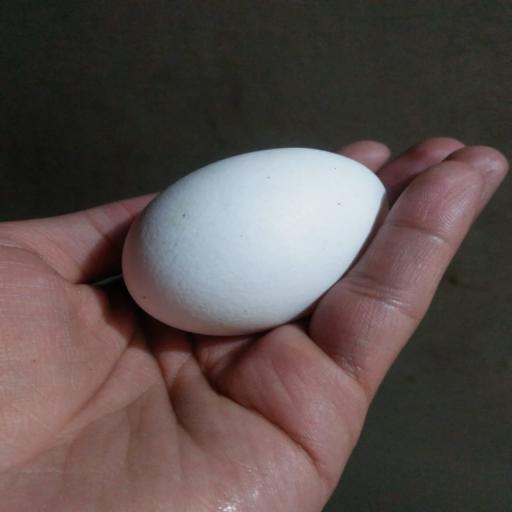telur: (123, 148, 386, 335)
